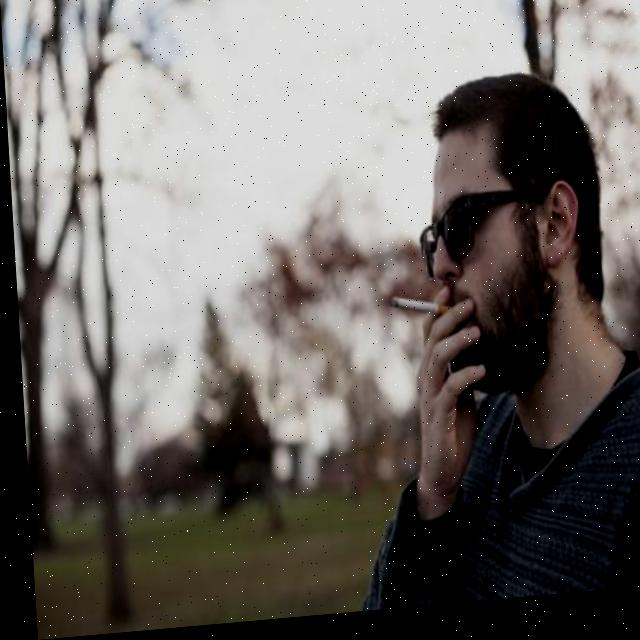cigarette: (384, 300, 446, 328)
